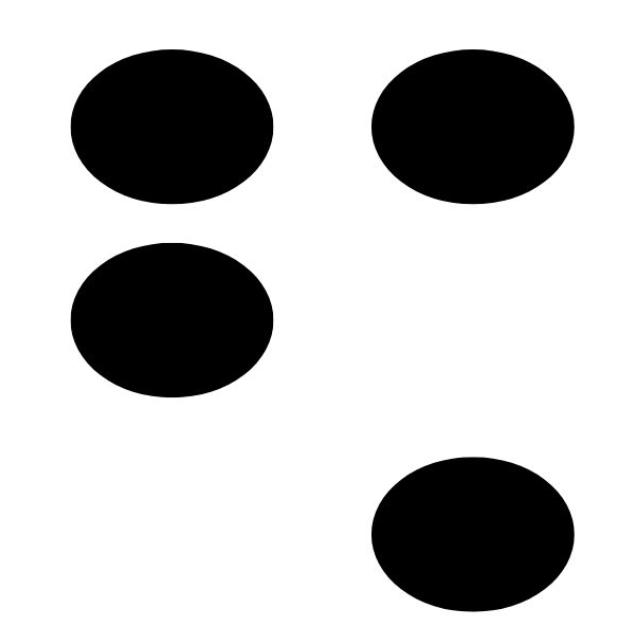nag: (67, 45, 577, 612)
